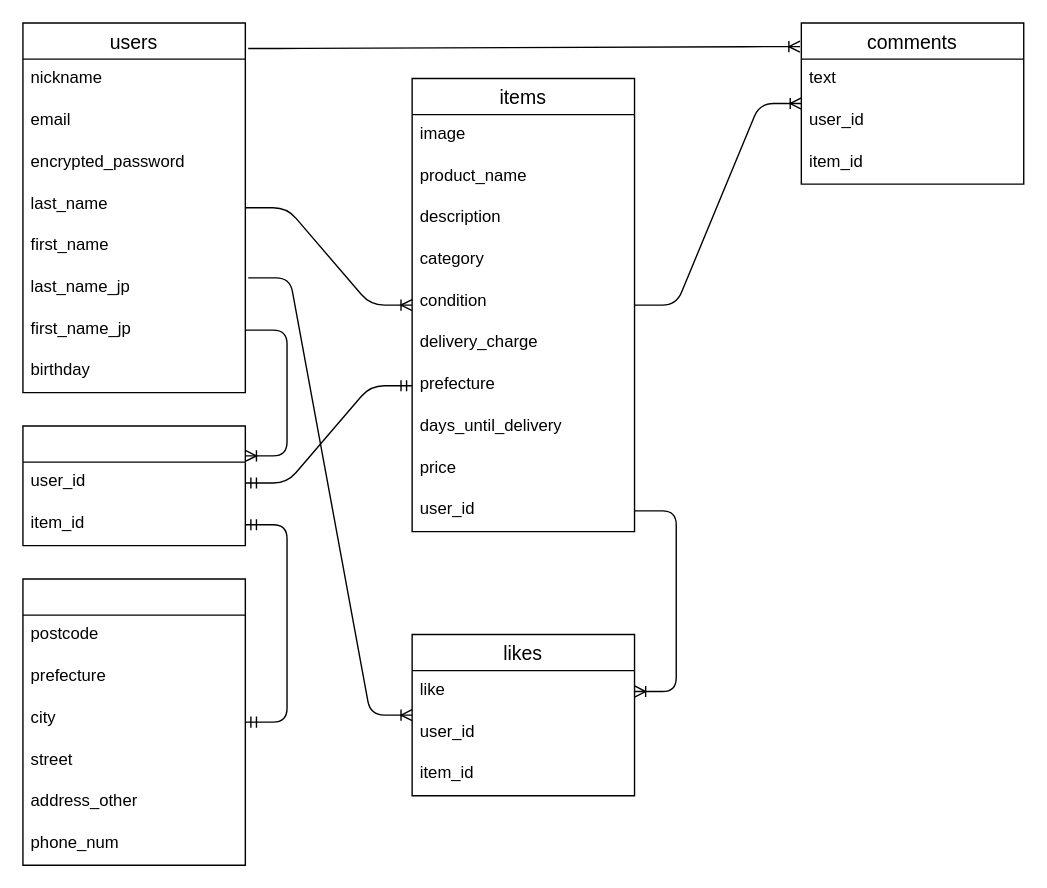
The diagram is 1047 pixels wide and 888 high, and some of its shapes have lost their labels. The shapes that lost their labels are listed below. From the top down, each one's box as (x1, y1, x2, y2) in pixels, then its label:
(22, 425, 245, 546): purchases
(22, 578, 245, 865): shipments
